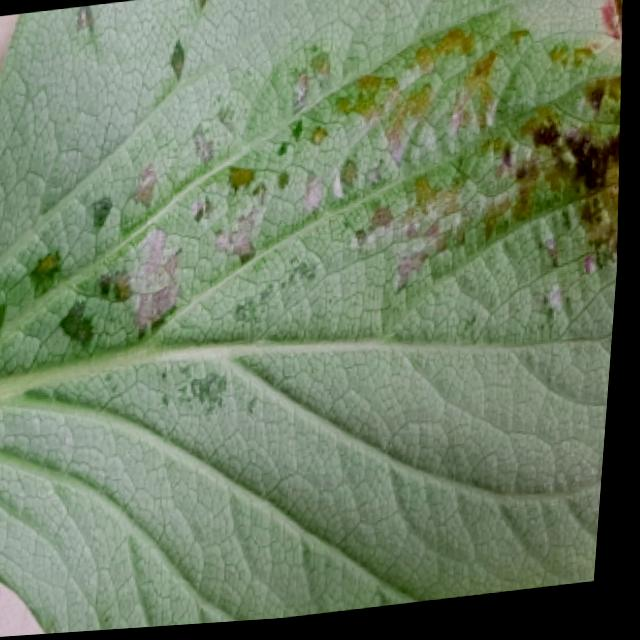Angular Leafspot: (0, 0, 623, 432)
